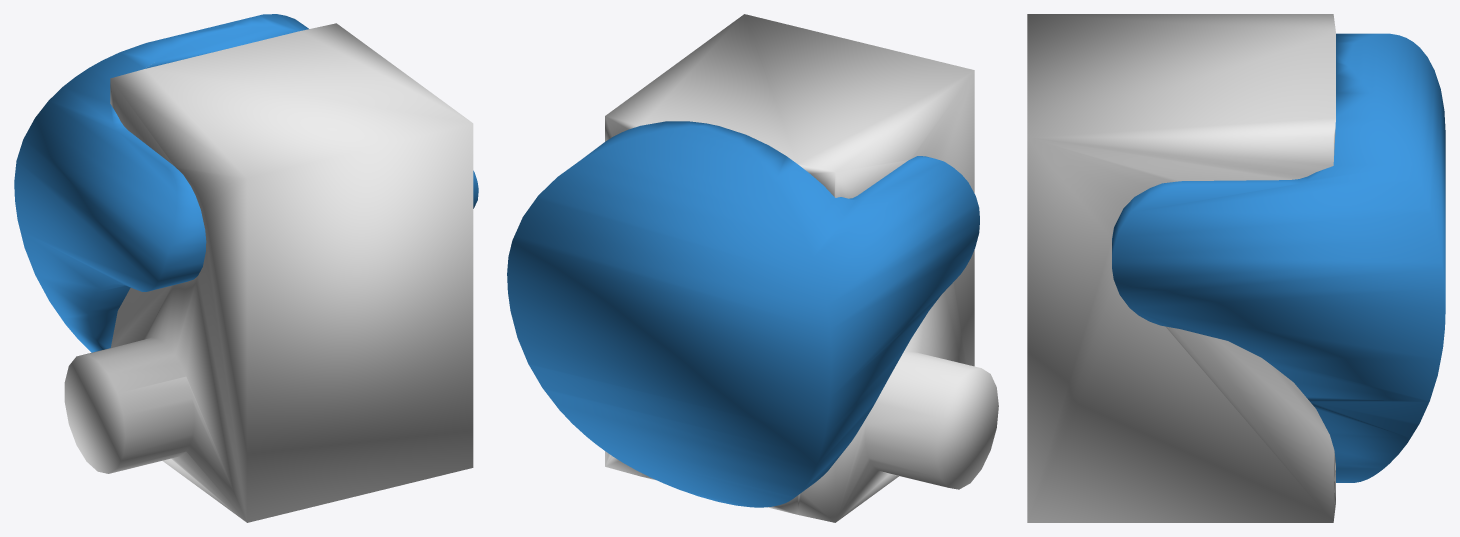
File: L_SHOULDER_R.dae
The picture shows the model from 3 angles, left to right: view 1: azimuth 30°, elevation 25°; view 2: azimuth 150°, elevation 25°; view 3: azimuth 270°, elevation 25°; orthographic projection. The views are drawn at different scales.
Visible parts, largest first — view 1: ShapeIndexedFaceS_056, ShapeIndexedFaceS_057; view 2: ShapeIndexedFaceS_057, ShapeIndexedFaceS_056; view 3: ShapeIndexedFaceS_056, ShapeIndexedFaceS_057.
Part boxes in pixels (x1,y1,x2,y2): ShapeIndexedFaceS_056: [64, 23, 473, 522]; ShapeIndexedFaceS_057: [14, 14, 478, 352]; ShapeIndexedFaceS_057: [507, 121, 979, 507]; ShapeIndexedFaceS_056: [605, 14, 998, 522]; ShapeIndexedFaceS_056: [1027, 14, 1335, 522]; ShapeIndexedFaceS_057: [1112, 33, 1445, 482].
Size of the model in its own units: 0.0975 by 0.0915 by 0.0994.
